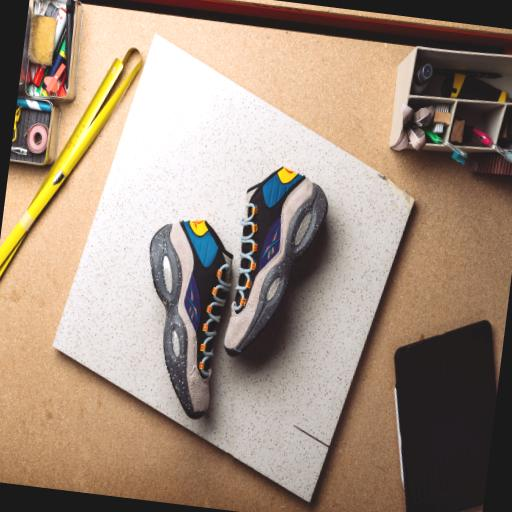shoe: (224, 168, 327, 355), (150, 221, 232, 419)
